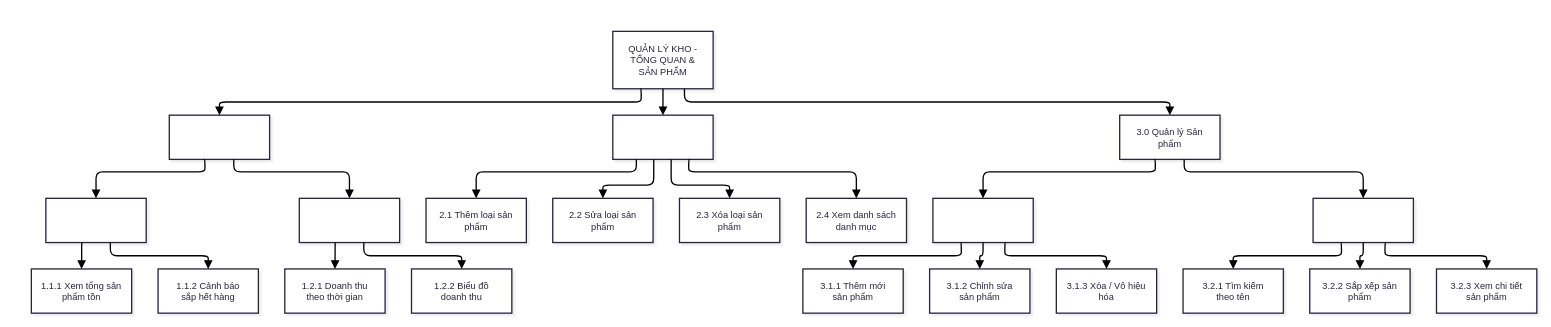
Image size: 1551x327. Some labels were removed from this diagram. Each missing label, with the centre of its shape:
"1.0 Quản lý Tổng quan" goes at point (220, 138).
"1.1 Thống kê tồn kho" goes at point (97, 221).
"1.2 Thống kê doanh thu" goes at point (350, 221).
"2.0 Quản lý Danh mục" goes at point (664, 138).
"3.1 Cập nhật thông tin" goes at point (984, 221).
"3.2 Tra cứu & Hiển thị" goes at point (1364, 221).
